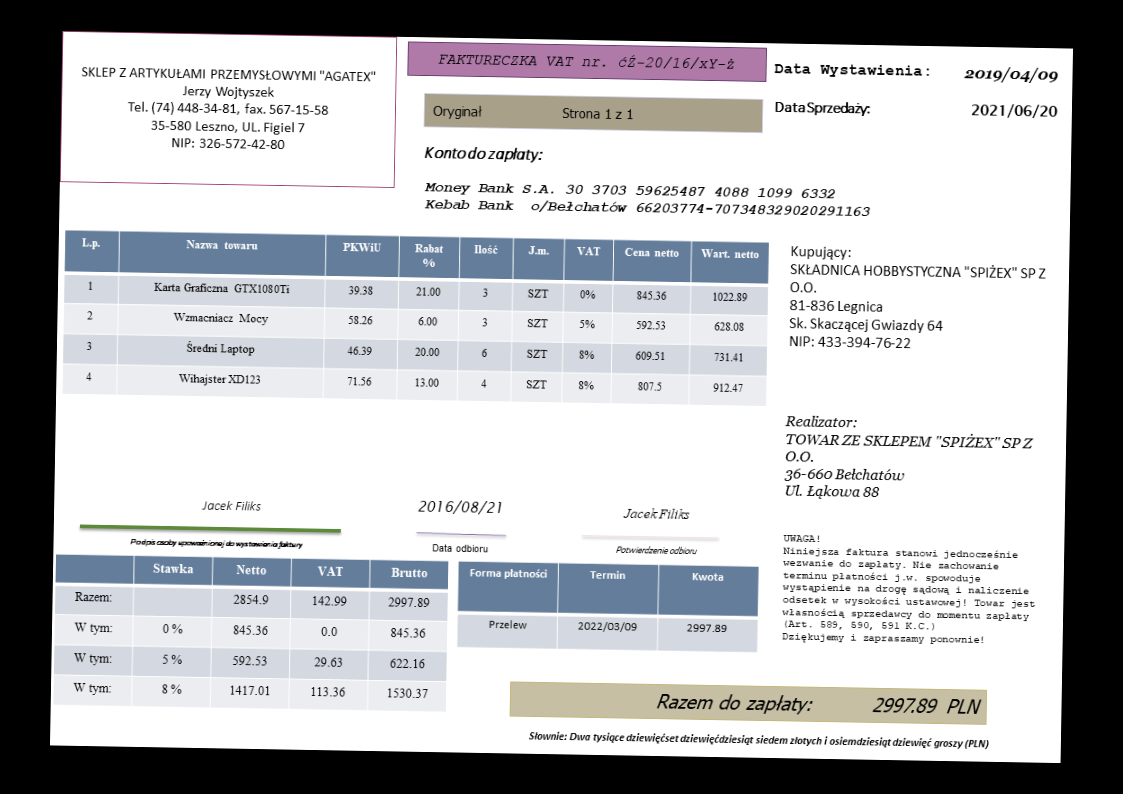Table: (61, 227, 772, 408), (52, 552, 450, 714), (455, 558, 761, 653)
TextBox: (785, 241, 1052, 357), (778, 530, 1039, 648), (76, 61, 379, 155), (781, 412, 1037, 505), (421, 178, 873, 221), (525, 727, 993, 754), (653, 688, 983, 719), (435, 50, 738, 72), (430, 100, 636, 126), (127, 533, 305, 554), (771, 59, 931, 80), (420, 141, 546, 166), (770, 96, 872, 120), (413, 495, 504, 519), (961, 66, 1062, 86), (969, 100, 1058, 122), (619, 502, 692, 523), (611, 542, 701, 559), (199, 496, 265, 515), (430, 541, 490, 555)
